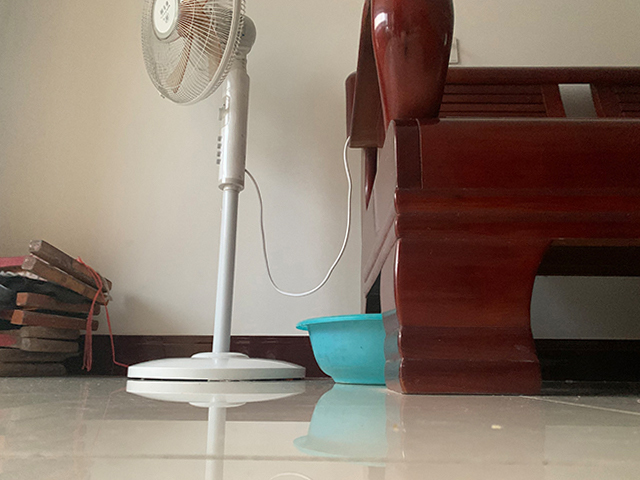sofa: (343, 1, 640, 395)
stool: (1, 239, 114, 377)
wire: (248, 141, 354, 297)
